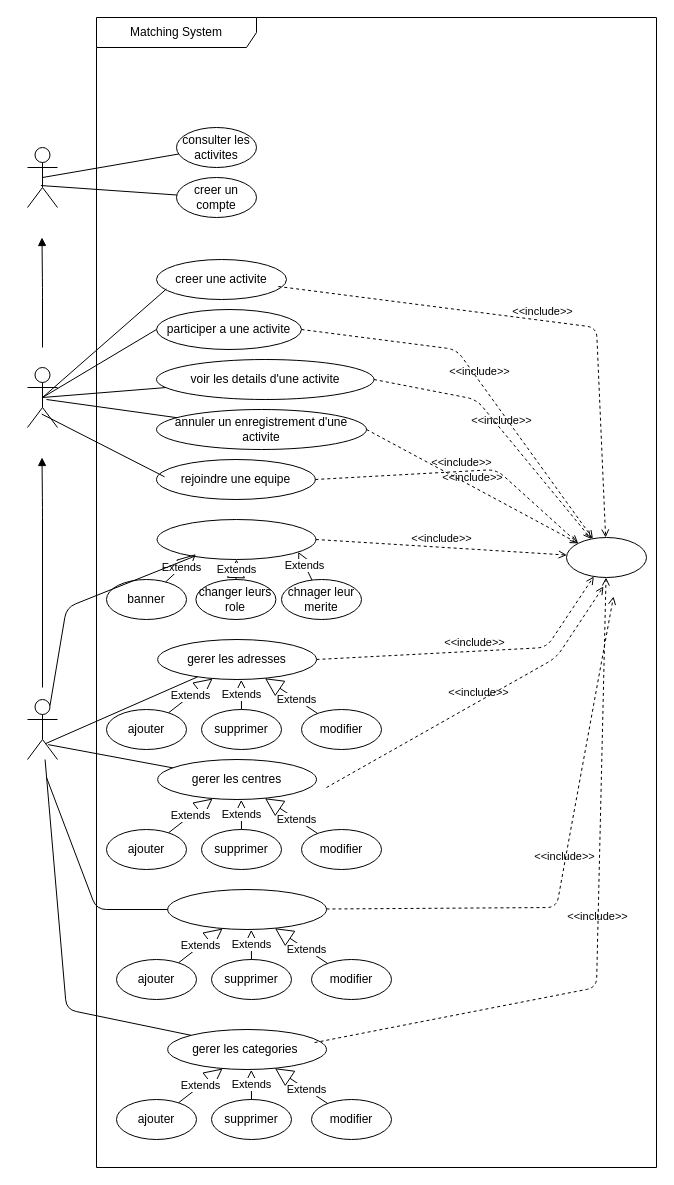
This 674x1185 diagram has some shape labels left out. Each missing label, with the box of its shape:
admin: (26, 698, 58, 760)
gerer les types: (167, 888, 326, 930)
gerer les utilisateurs: (156, 518, 316, 560)
s'authentifier: (566, 536, 646, 578)
utilisateur: (26, 366, 58, 428)
visiteur: (26, 146, 58, 208)
